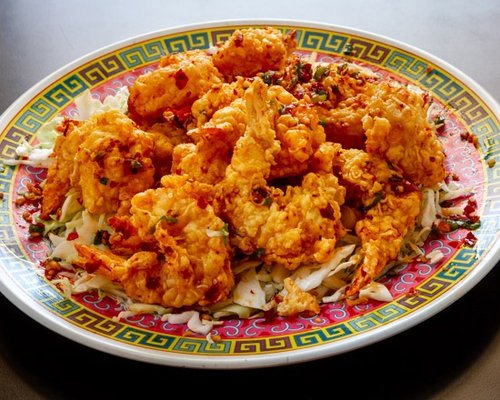curry: (0, 8, 500, 400)
